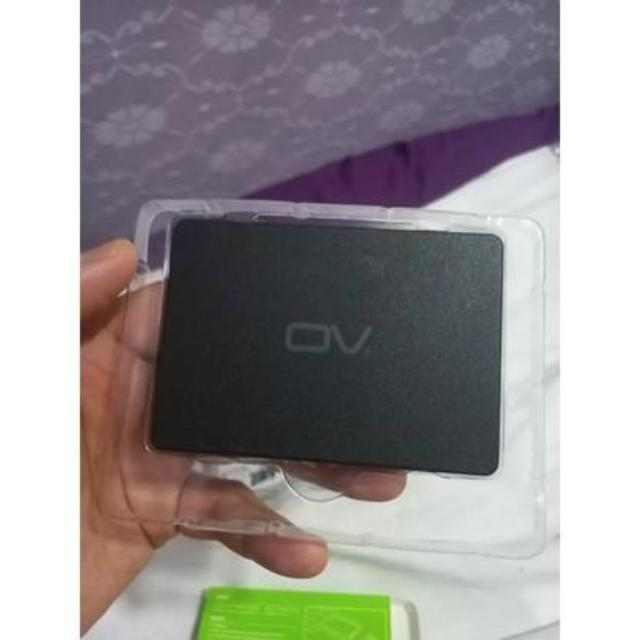DISK: (142, 217, 510, 485)
